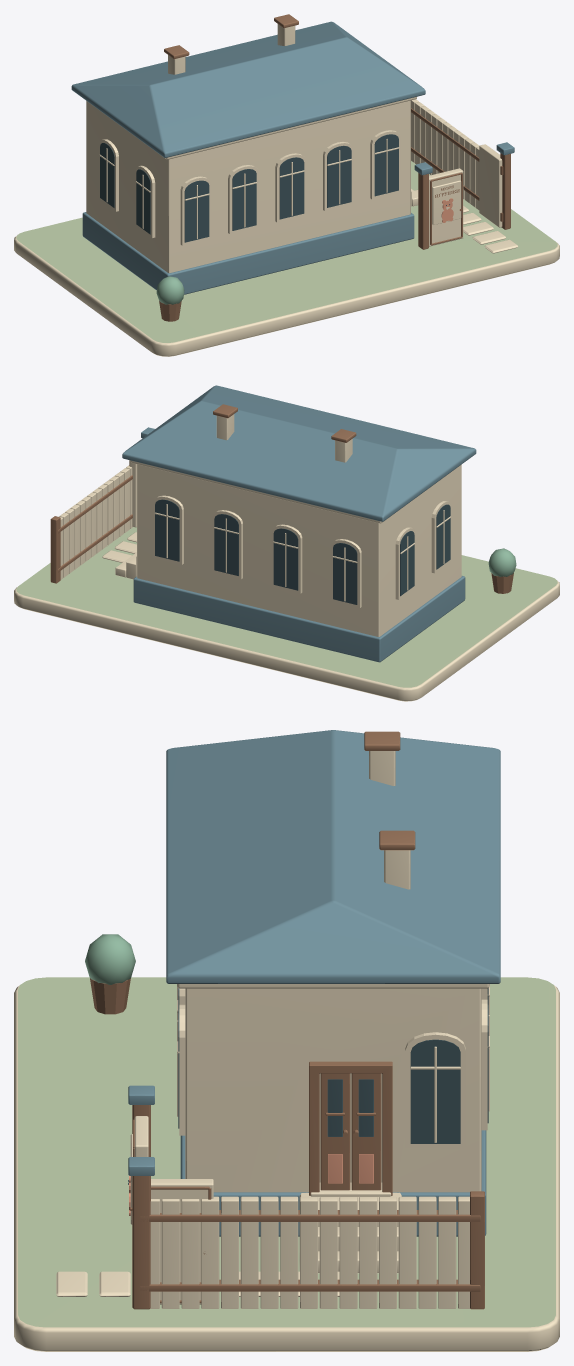
File: toy-museum.glb
3 renders of one model, top to bottom at view 1: azimuth 30°, elevation 25°; view 2: azimuth 150°, elevation 25°; view 3: azimuth 270°, elevation 25°, orthographic. The views are drawn at different scales.
Parts seen in each view (by area): view 1: toy-museum · soft low-poly; view 2: toy-museum · soft low-poly; view 3: toy-museum · soft low-poly.
Boxes of the visible parts, bbox=[...] form: toy-museum · soft low-poly: bbox=[14, 14, 559, 356]; toy-museum · soft low-poly: bbox=[14, 385, 559, 701]; toy-museum · soft low-poly: bbox=[14, 730, 559, 1351].
Size of the model in its own units: 7.2 by 3.48 by 4.7.
